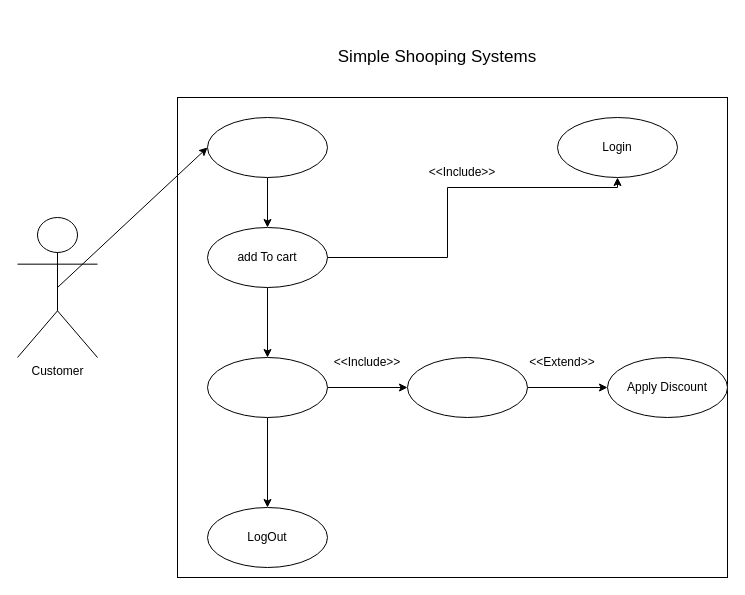
Some shapes in this 745 by 595 pixel diagram are drawn without their labels. The shapes that lost their labels are listed below. From the top down, each one's centre as x and y in pixels, then its label:
At [267,147]: "Browse Product".
At [267,387]: "Buy Product".
At [467,387]: "Make A Payment".
